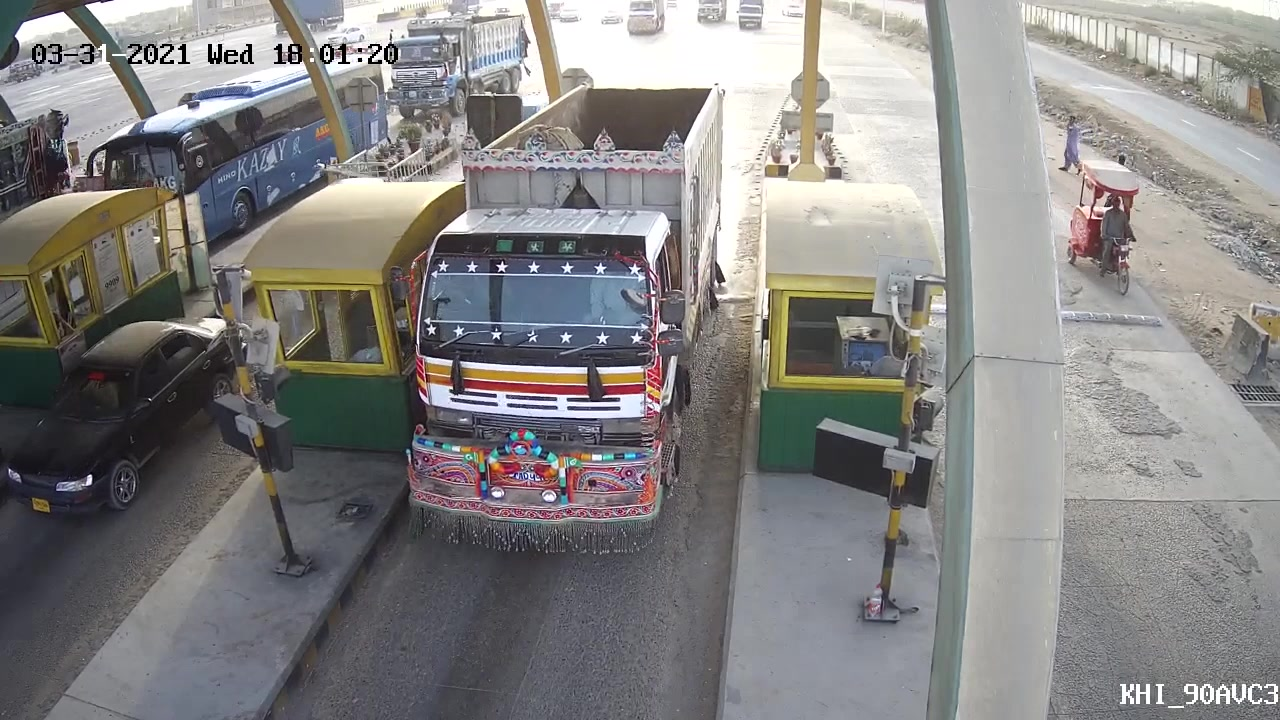F5: (382, 80, 741, 560)
